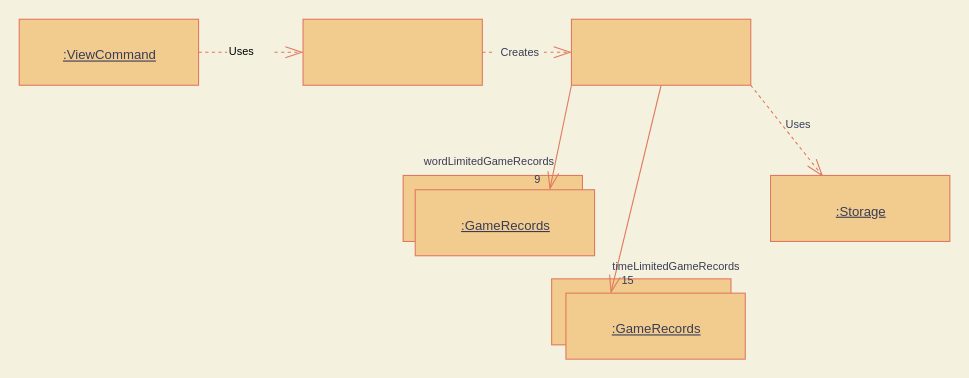
The diagram is 969 pixels wide and 378 high, and some of its shapes have lost their labels. The centre of each missing label's shape, as x and y in pixels:
:GameRecordsManager: (660,51)
:StatisitcsManager: (392,51)
